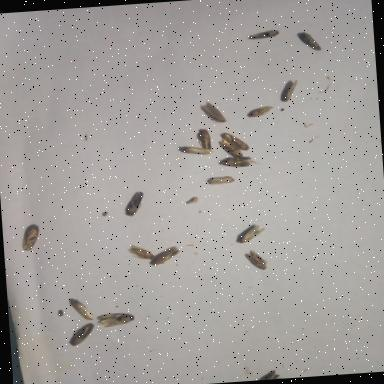pbw: (68, 296, 94, 322), (148, 246, 180, 266), (68, 322, 94, 346), (94, 312, 134, 327), (222, 130, 249, 152), (218, 154, 260, 168), (20, 224, 40, 252), (202, 100, 225, 124), (122, 191, 144, 216), (126, 243, 154, 261), (237, 225, 264, 243), (220, 136, 242, 158), (246, 248, 268, 270), (177, 144, 213, 157), (300, 30, 320, 51), (279, 80, 298, 102), (246, 106, 274, 118), (196, 128, 211, 150), (247, 29, 279, 39), (209, 175, 234, 185)
